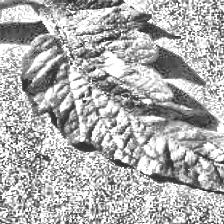leaf mold: (22, 0, 224, 209)
